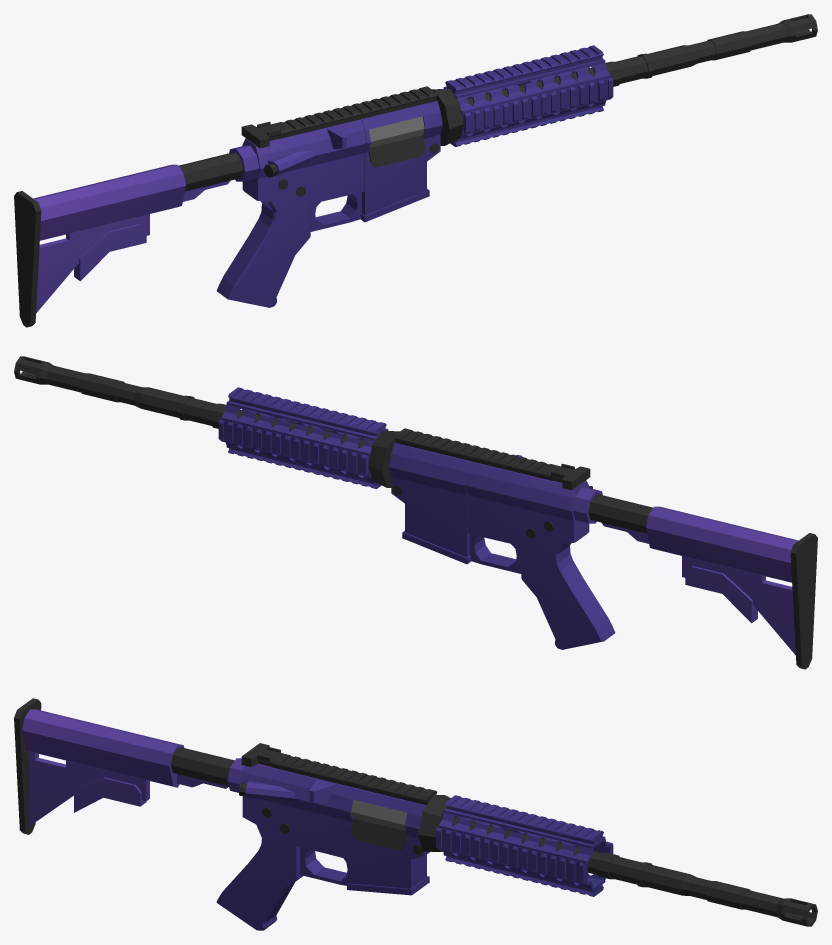
The model's file is AssaultRifle4_05.fbx.
3 renders of one model, top to bottom at view 1: azimuth 30°, elevation 25°; view 2: azimuth 150°, elevation 25°; view 3: azimuth 330°, elevation 25°, orthographic.
Parts seen in each view (by area): view 1: AssaultRifle4_05; view 2: AssaultRifle4_05; view 3: AssaultRifle4_05.
Boxes of the visible parts, x1,y1,x2,y2 form: AssaultRifle4_05: [14, 14, 817, 327]; AssaultRifle4_05: [14, 356, 817, 669]; AssaultRifle4_05: [14, 698, 817, 930].
Bounding box in the file's own units: 0.9841 × 0.2093 × 0.0717.
